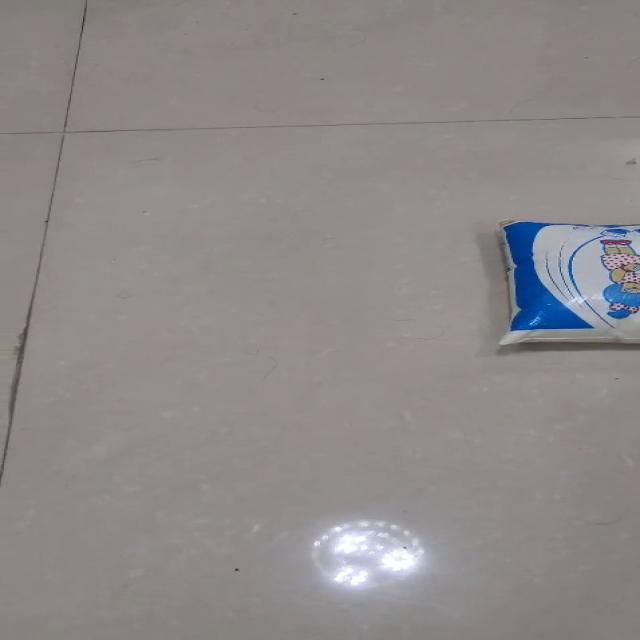plastic: (495, 218, 639, 346)
